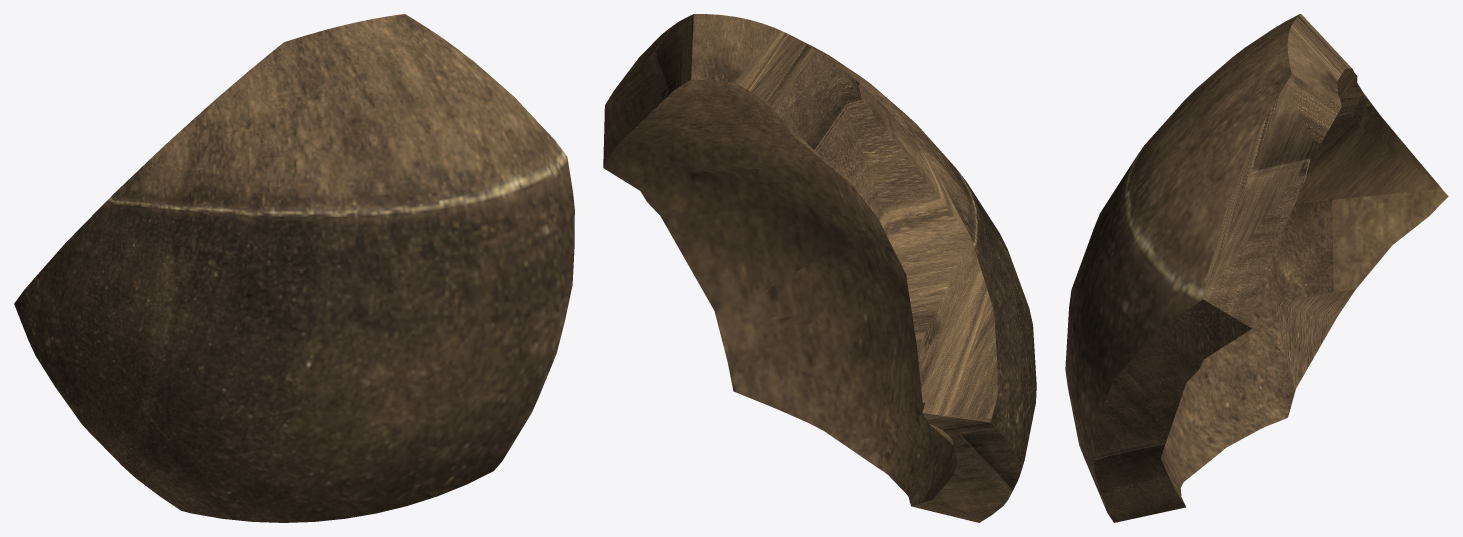
3 views of the same model, side by side, from view 1: azimuth 30°, elevation 25°; view 2: azimuth 150°, elevation 25°; view 3: azimuth 270°, elevation 25° (orthographic). The views are drawn at different scales.
Parts seen in each view (by area): view 1: Cylinder_cell.004; view 2: Cylinder_cell.004; view 3: Cylinder_cell.004.
Part boxes in pixels (x1,y1,x2,y2): Cylinder_cell.004: [14, 14, 574, 522]; Cylinder_cell.004: [603, 14, 1036, 522]; Cylinder_cell.004: [1065, 14, 1448, 522].
Bounding box in the file's own units: 1.39 × 1.26 × 0.9141.
1 material, 1 textured.
